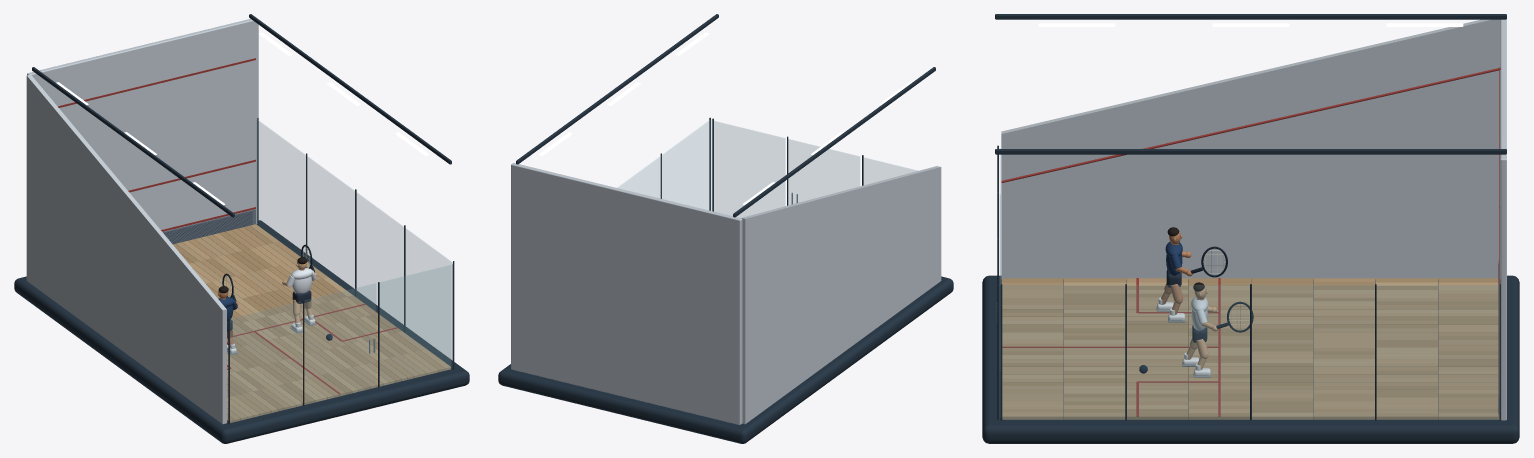
Rendered from squash-court.glb.
3 views of the same model, side by side, from view 1: azimuth 30°, elevation 25°; view 2: azimuth 150°, elevation 25°; view 3: azimuth 270°, elevation 25° (orthographic). The views are drawn at different scales.
Parts seen in each view (by area): view 1: Left return wall, Front wall, Right glass wall, Foundation, Back glass panel, Back glass panel.001, Back glass panel.002, Tin, Ceiling rail, Ceiling rail.001, Front regulation line.002; view 2: Front wall, Left return wall, Foundation, Back glass panel.002, Right glass wall, Back glass panel.001, Ceiling rail, Ceiling rail.001, Back glass panel; view 3: Left return wall, Right glass wall, Foundation, Ceiling rail, Ceiling rail.001, Front wall, Left out line.
Part boxes in pixels (x1,y1,x2,y2): Left return wall: [26, 74, 226, 424]; Front wall: [27, 19, 258, 231]; Right glass wall: [256, 120, 452, 367]; Foundation: [14, 220, 469, 443]; Back glass panel: [230, 302, 301, 422]; Back glass panel.001: [304, 283, 375, 404]; Back glass panel.002: [380, 265, 450, 385]; Tin: [162, 209, 255, 244]; Ceiling rail: [32, 67, 234, 217]; Ceiling rail.001: [249, 14, 451, 164]; Front regulation line.002: [58, 58, 255, 107]; Front wall: [511, 163, 742, 424]; Left return wall: [741, 166, 941, 424]; Foundation: [498, 276, 953, 443]; Back glass panel.002: [714, 121, 785, 217]; Right glass wall: [618, 120, 711, 210]; Back glass panel.001: [788, 139, 859, 204]; Ceiling rail: [733, 67, 935, 217]; Ceiling rail.001: [516, 14, 718, 164]; Back glass panel: [863, 158, 917, 184]; Left return wall: [1001, 19, 1500, 278]; Right glass wall: [1002, 285, 1499, 419]; Foundation: [982, 275, 1519, 443]; Ceiling rail: [995, 14, 1506, 19]; Ceiling rail.001: [995, 149, 1506, 154]; Front wall: [1500, 19, 1506, 420]; Left out line: [1001, 68, 1500, 182].
Bounding box in the file's own units: 7.15 × 6.19 × 10.5.
